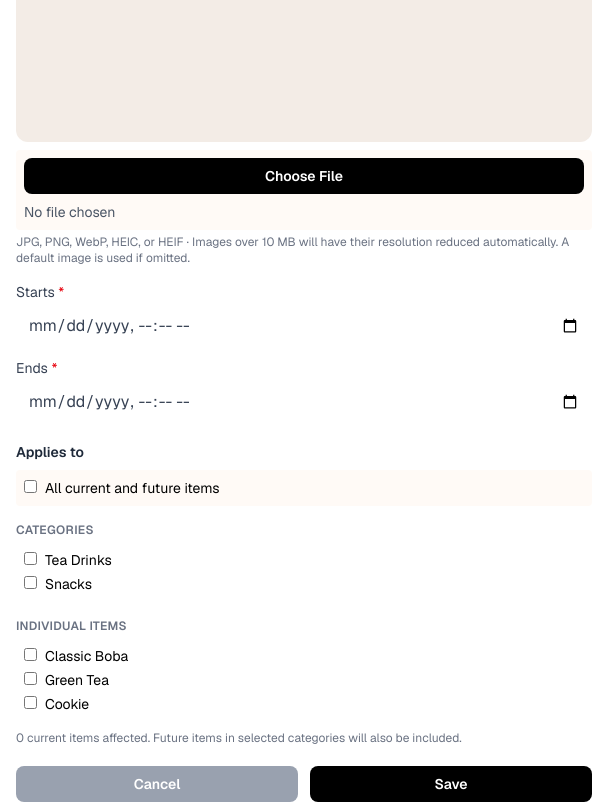
Scenario: Admin Events form interactions › counts affected items without double-counting overlapping selections
(page scrolled)
Step 1. Click the checkbox labelled "Tea Drinks" → (30, 558), box [24,552,37,565]
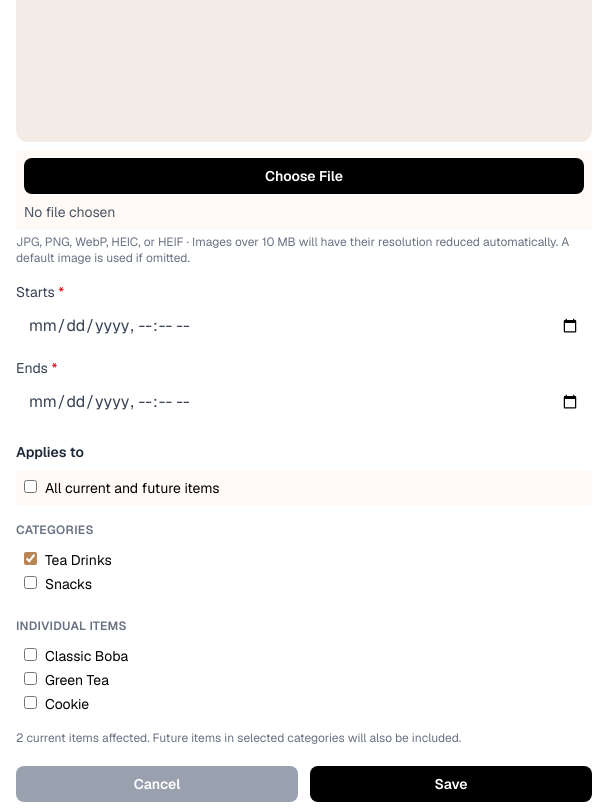
expect the text "2 current items affected" is shown: met, box [16,730,461,746]
Step 2. Click the checkbox labelled "Classic Boba" → (30, 654), box [24,648,37,661]
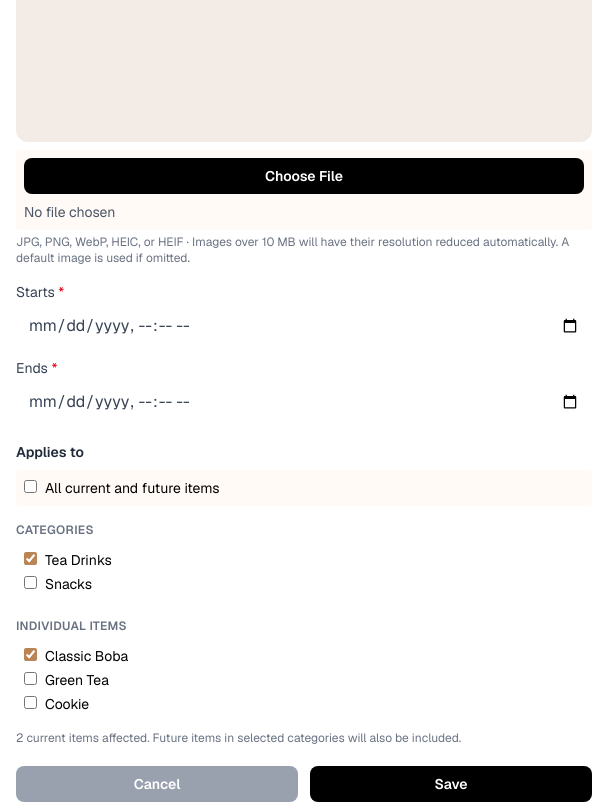
expect the text "2 current items affected" is shown: met, box [16,730,461,746]
Step 3. Click the checkbox labelled "Cookie" → (30, 702), box [24,696,37,709]
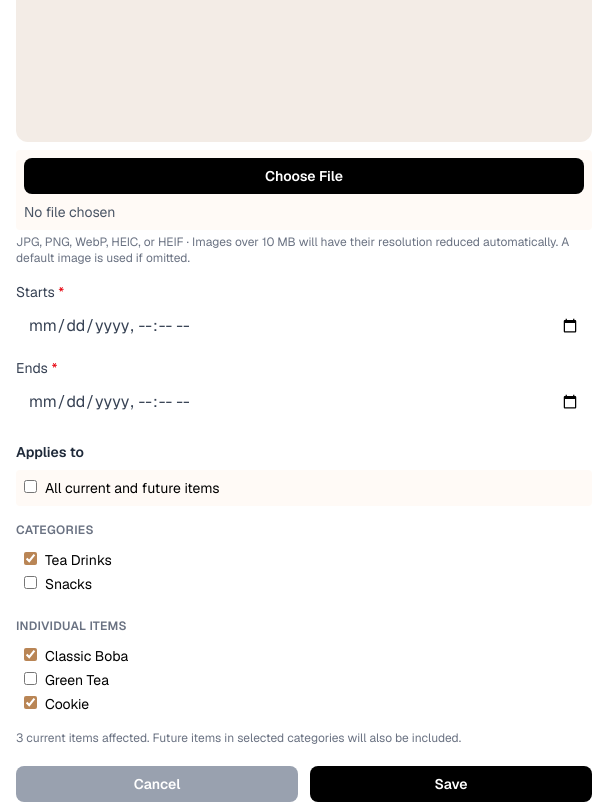
expect the text "3 current items affected" is shown: met, box [16,730,461,746]
